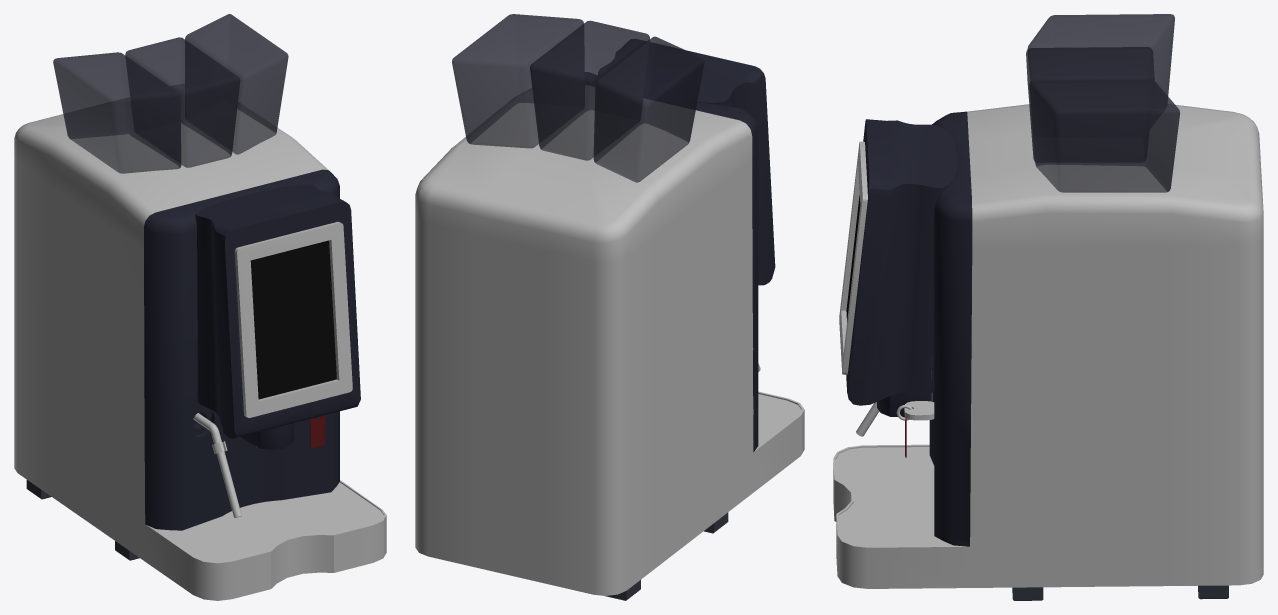
The model's file is dyeing-machine.glb.
The picture shows the model from 3 angles, left to right: view 1: azimuth 30°, elevation 25°; view 2: azimuth 150°, elevation 25°; view 3: azimuth 270°, elevation 25°; orthographic projection. The views are drawn at different scales.
Visible parts, largest first — view 1: machine_7, plaque_11, recipient_12, machine.001_8, ecran_2, ecran.002_4, ecran.001_3, paille_9, jet_5; view 2: machine_7, recipient_12, ecran_2, machine.001_8, plaque_11; view 3: machine_7, recipient_12, ecran_2, machine.001_8, plaque_11, ecran.001_3, pieds_10, jet_5.
Boxes of the visible parts, left/top/right/bottom form: machine_7: left=14, top=84, right=330, bottom=561; plaque_11: left=144, top=169, right=339, bottom=530; recipient_12: left=53, top=14, right=288, bottom=173; machine.001_8: left=145, top=480, right=386, bottom=600; ecran_2: left=195, top=184, right=360, bottom=438; ecran.002_4: left=250, top=240, right=336, bottom=399; ecran.001_3: left=234, top=221, right=352, bottom=417; paille_9: left=193, top=413, right=241, bottom=517; jet_5: left=240, top=423, right=293, bottom=449; machine_7: left=415, top=85, right=753, bottom=595; recipient_12: left=452, top=14, right=704, bottom=182; ecran_2: left=598, top=39, right=775, bottom=285; machine.001_8: left=753, top=391, right=804, bottom=492; plaque_11: left=585, top=72, right=758, bottom=452; machine_7: left=967, top=104, right=1263, bottom=587; recipient_12: left=1026, top=14, right=1180, bottom=192; ecran_2: left=846, top=119, right=957, bottom=405; machine.001_8: left=833, top=444, right=969, bottom=588; plaque_11: left=929, top=111, right=972, bottom=546; ecran.001_3: left=839, top=141, right=867, bottom=374; pieds_10: left=1012, top=585, right=1228, bottom=600; jet_5: left=877, top=391, right=932, bottom=417.
Size of the model in its own units: 0.8306 by 1.8 by 1.43.
Materials: 1 (1 with a texture image).
